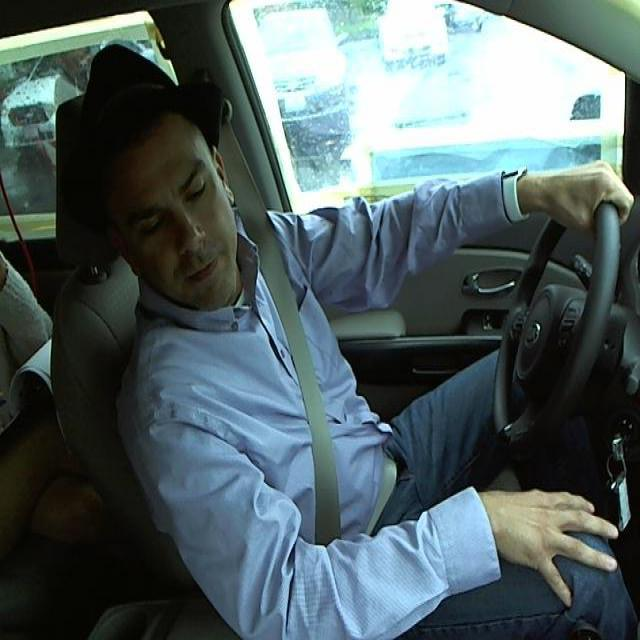seatbelt: (258, 228, 397, 529)
